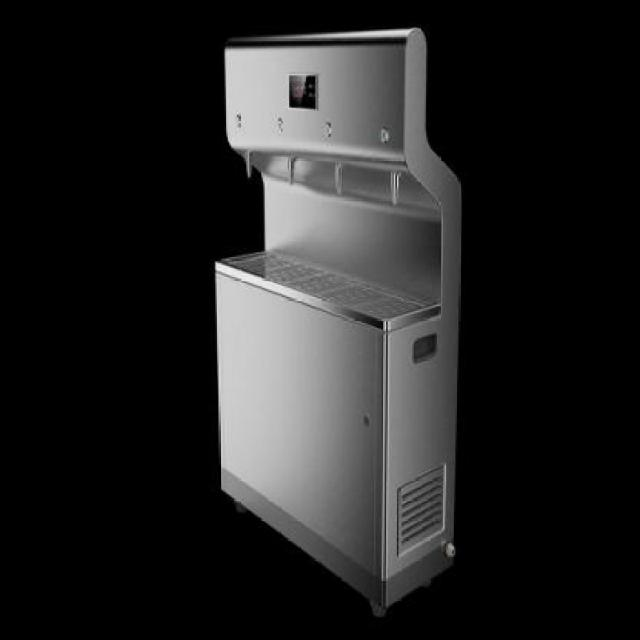cooler: (212, 22, 458, 619)
